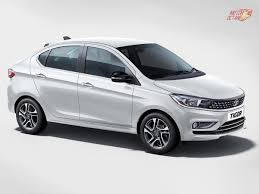Tiago: (4, 31, 248, 160)
